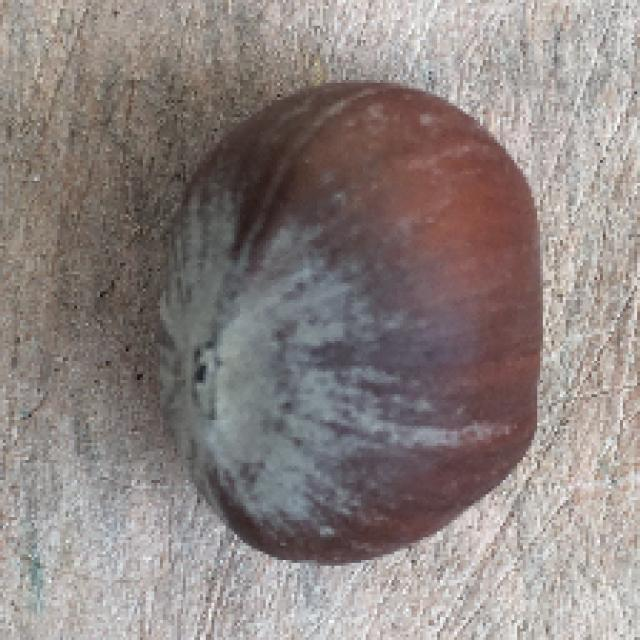damagedHazelnut: (148, 78, 552, 564)
